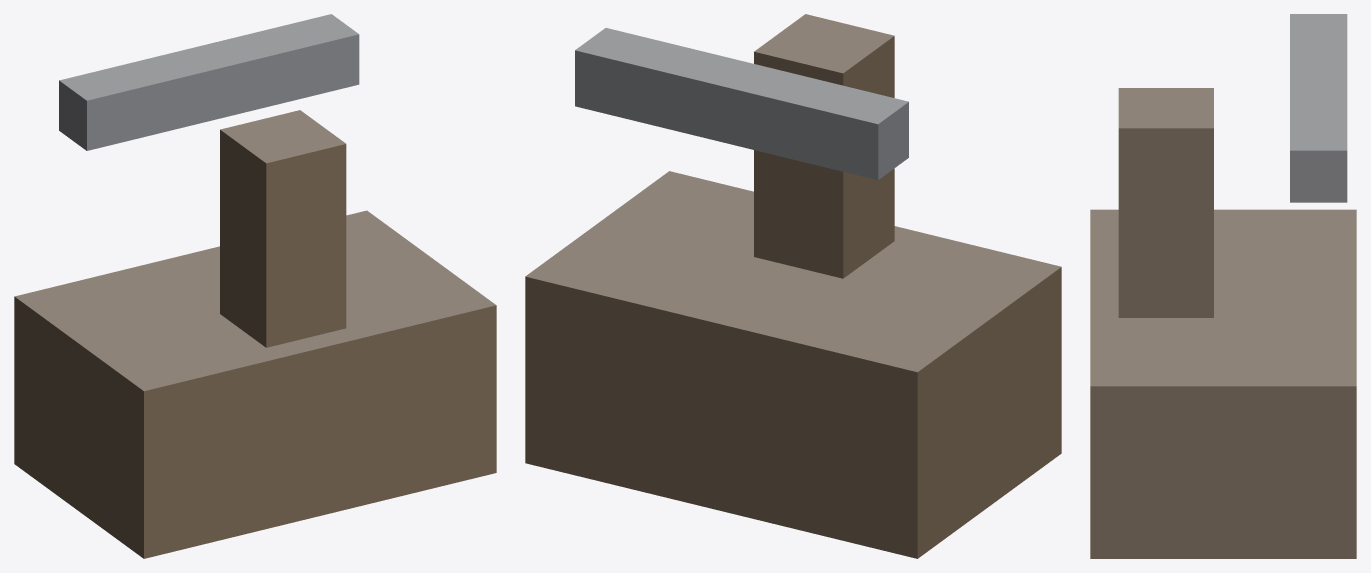
The model's file is siege.gltf.
The picture shows the model from 3 angles, left to right: view 1: azimuth 30°, elevation 25°; view 2: azimuth 150°, elevation 25°; view 3: azimuth 270°, elevation 25°; orthographic projection. The views are drawn at different scales.
Parts seen in each view (by area): view 1: unit-siege; view 2: unit-siege; view 3: unit-siege.
Boxes of the visible parts, x1,y1,x2,y2 form: unit-siege: (14,14,496,558); unit-siege: (525,14,1061,558); unit-siege: (1090,14,1356,558).
Bounding box in the file's own units: 0.44 × 0.45 × 0.28.
